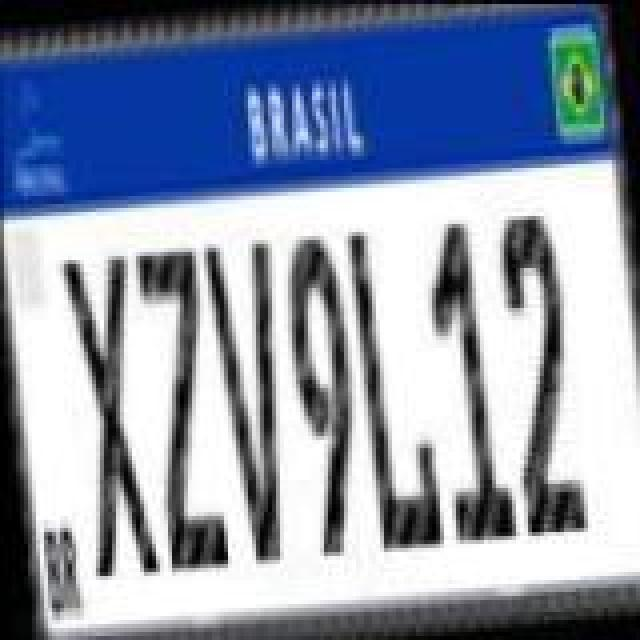1: (420, 218, 516, 550)
2: (490, 208, 586, 544)
9: (276, 226, 372, 562)
L: (348, 222, 444, 554)
V: (202, 238, 302, 570)
X: (58, 252, 158, 588)
Z: (132, 242, 228, 574)
